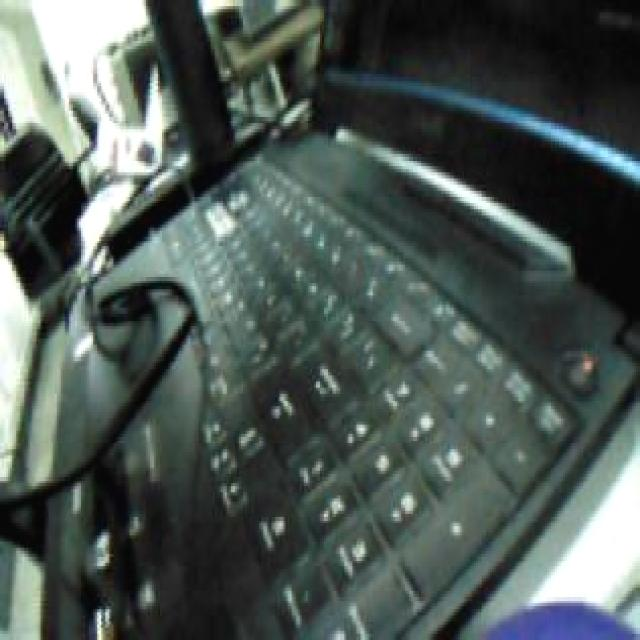BallPurple: (489, 596, 639, 640)
